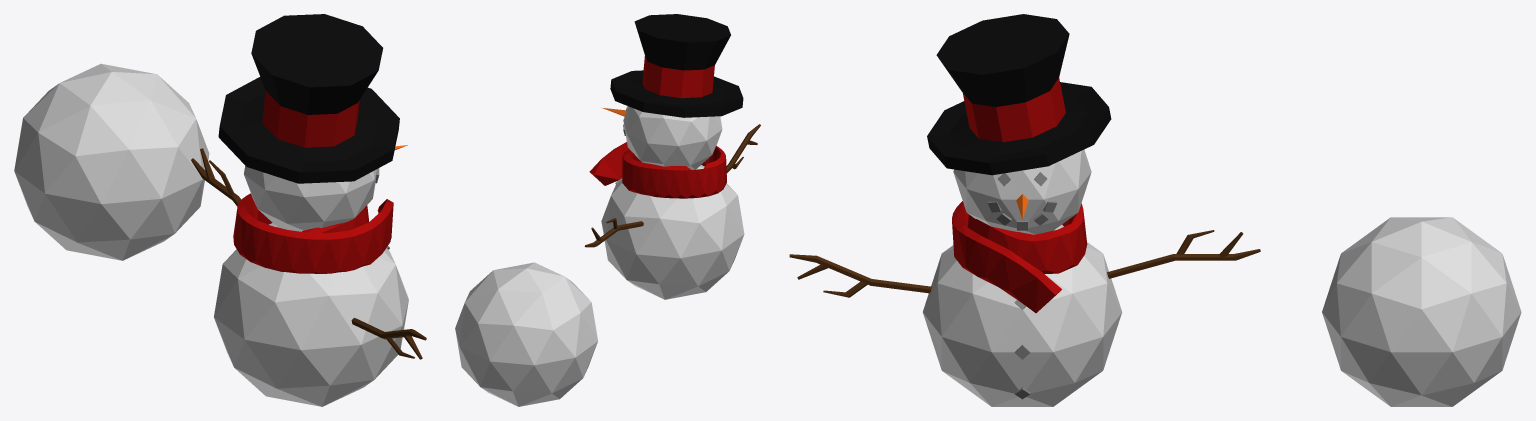
The model's file is snowman.fbx.
3 renders of one model, left to right at view 1: azimuth 30°, elevation 25°; view 2: azimuth 150°, elevation 25°; view 3: azimuth 270°, elevation 25°, orthographic. The views are drawn at different scales.
Visible parts, largest first — view 1: snowball_no_buttons, hat, snowball_bottom, scarf, snowball_top, hands; view 2: snowball_no_buttons, snowball_bottom, hat, snowball_top, scarf, hands; view 3: snowball_no_buttons, snowball_bottom, hat, scarf, snowball_top, hands.
Boxes of the visible parts, left/top/right/bottom form: snowball_no_buttons: left=14, top=63, right=209, bottom=260; hat: left=218, top=14, right=399, bottom=183; snowball_bottom: left=214, top=223, right=408, bottom=406; scarf: left=233, top=193, right=393, bottom=273; snowball_top: left=244, top=166, right=377, bottom=231; hands: left=191, top=148, right=426, bottom=359; snowball_no_buttons: left=455, top=262, right=597, bottom=406; snowball_bottom: left=601, top=165, right=744, bottom=299; hat: left=610, top=14, right=743, bottom=117; snowball_top: left=623, top=106, right=722, bottom=169; scarf: left=589, top=142, right=726, bottom=198; hands: left=584, top=124, right=760, bottom=247; snowball_no_buttons: left=1322, top=217, right=1521, bottom=406; snowball_bottom: left=922, top=224, right=1122, bottom=406; hat: left=927, top=14, right=1111, bottom=175; scarf: left=952, top=201, right=1087, bottom=313; snowball_top: left=953, top=150, right=1091, bottom=234; hands: left=789, top=230, right=1260, bottom=297.
Size of the model in its own units: 208 by 406 by 733.
